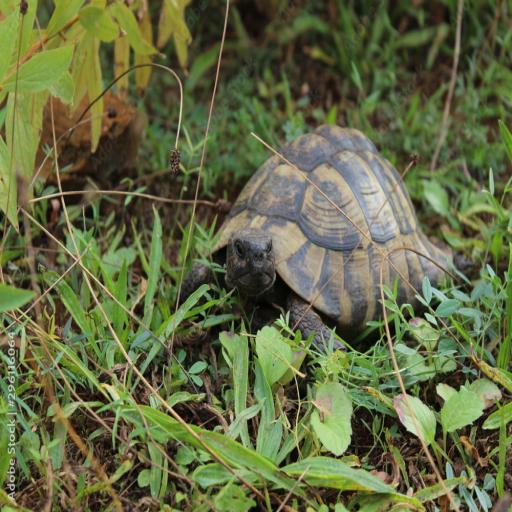turtle: (167, 108, 462, 394)
